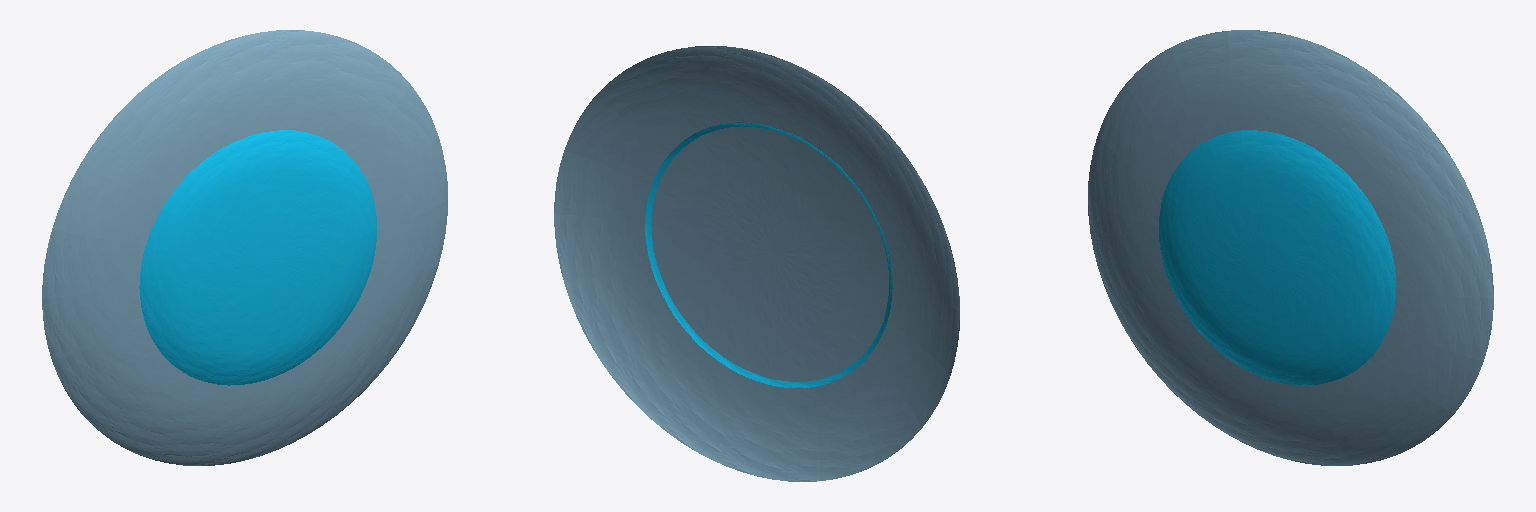
Rendered from JouganUpdate.obj.
3 renders of one model, left to right at view 1: azimuth 30°, elevation 25°; view 2: azimuth 150°, elevation 25°; view 3: azimuth 330°, elevation 25°, orthographic.
Visible parts, largest first — view 1: Mesh_0, Mesh_0.001_Mesh_0.002; view 2: Mesh_0, Mesh_0.001_Mesh_0.002; view 3: Mesh_0, Mesh_0.001_Mesh_0.002.
Boxes of the visible parts, x1=… form: Mesh_0: x1=42, y1=30, x2=447, y2=465; Mesh_0.001_Mesh_0.002: x1=139, y1=130, x2=376, y2=385; Mesh_0: x1=554, y1=46, x2=959, y2=481; Mesh_0.001_Mesh_0.002: x1=645, y1=122, x2=892, y2=387; Mesh_0: x1=1088, y1=30, x2=1493, y2=465; Mesh_0.001_Mesh_0.002: x1=1159, y1=130, x2=1396, y2=384.
Size of the model in its own units: 0.0071 by 0.0071 by 0.0007.